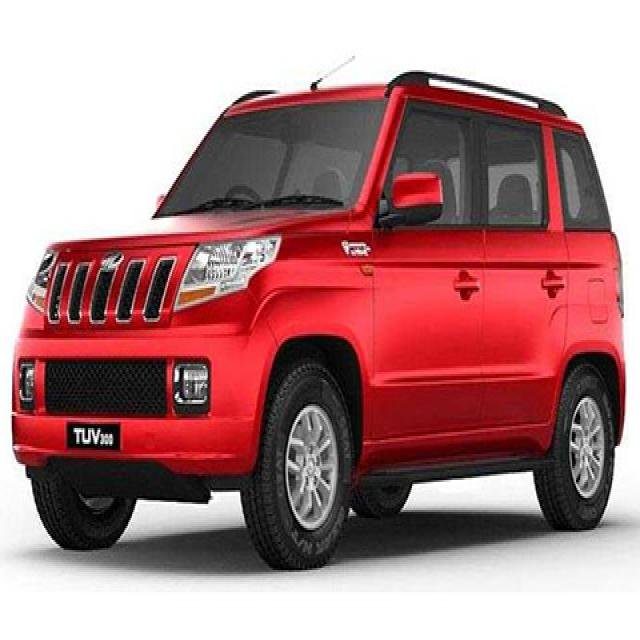light_vehicle: (14, 66, 630, 561)
